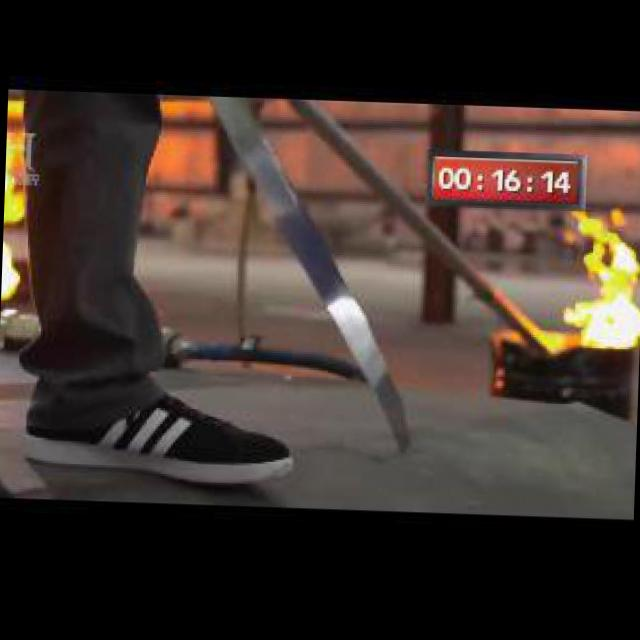fire: (562, 211, 640, 354), (1, 100, 30, 306)
